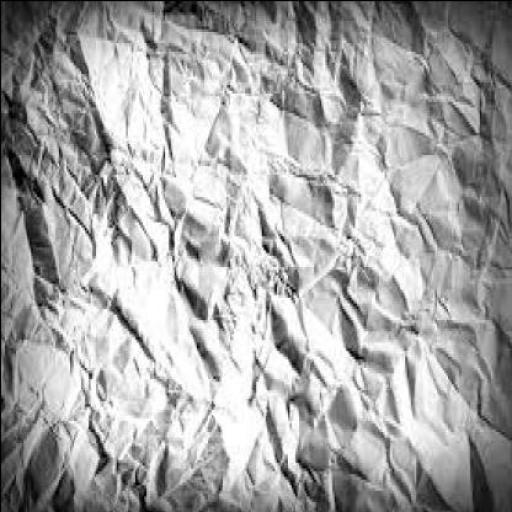paper: (1, 1, 512, 511)
